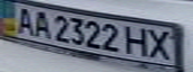2: (100, 20, 124, 54), (48, 12, 72, 44), (81, 18, 103, 51)
3: (66, 16, 87, 46)
A: (12, 6, 39, 35), (30, 9, 54, 38)
H: (124, 25, 151, 57)
X: (145, 27, 175, 61)
